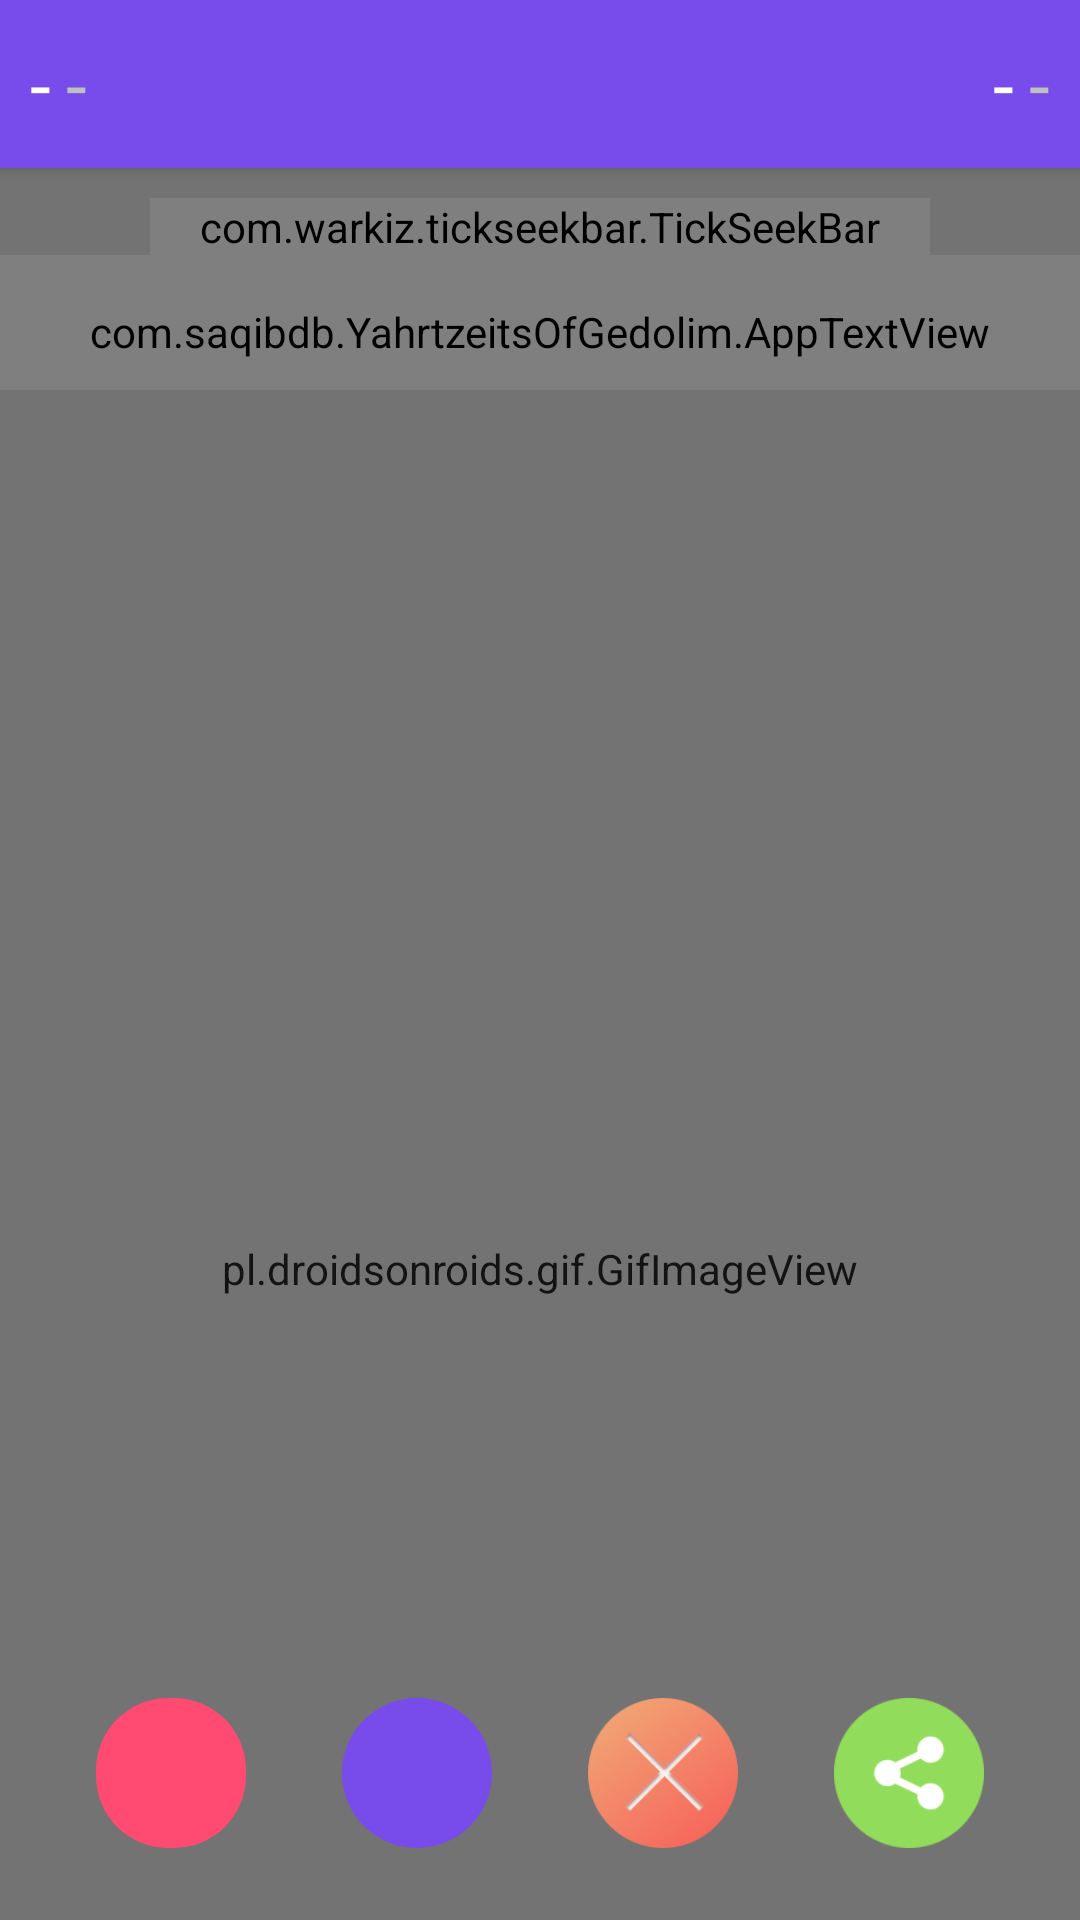

Icons on this 1080 × 1920 Android screen, each with the point to tap as point (x, y):
close: point (663, 1773)
share: point (909, 1773)
